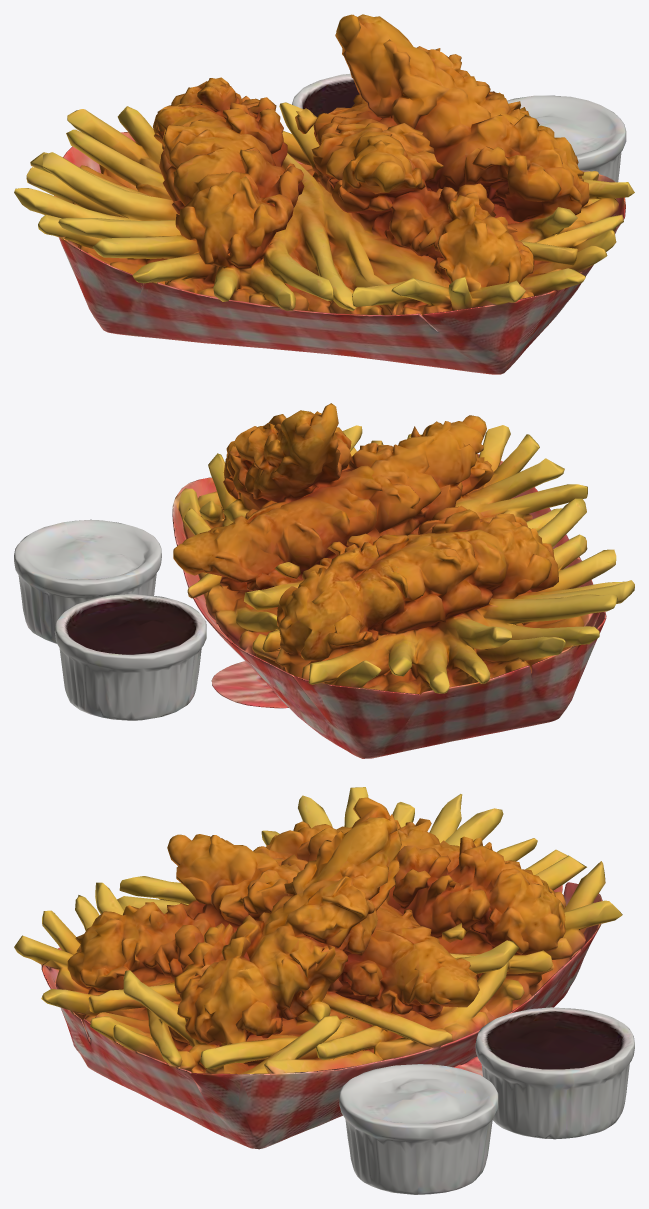
Rendered from p_strips.glb.
3 renders of one model, top to bottom at view 1: azimuth 30°, elevation 25°; view 2: azimuth 150°, elevation 25°; view 3: azimuth 270°, elevation 25°, orthographic. The views are drawn at different scales.
Parts seen in each view (by area): view 1: tripo_node_77555606-b838-4d8c-8bc1-e7b25787c0d7; view 2: tripo_node_77555606-b838-4d8c-8bc1-e7b25787c0d7; view 3: tripo_node_77555606-b838-4d8c-8bc1-e7b25787c0d7.
Boxes of the visible parts, x1=… form: tripo_node_77555606-b838-4d8c-8bc1-e7b25787c0d7: x1=14, y1=14, x2=634, y2=374; tripo_node_77555606-b838-4d8c-8bc1-e7b25787c0d7: x1=14, y1=403, x2=634, y2=758; tripo_node_77555606-b838-4d8c-8bc1-e7b25787c0d7: x1=14, y1=787, x2=634, y2=1194.
Size of the model in its own units: 1 by 0.4318 by 0.9119.
1 material, 1 textured.
